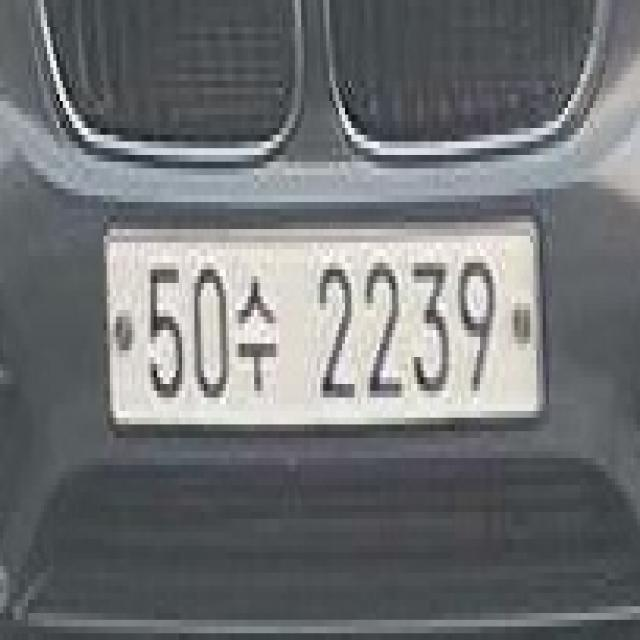0: (190, 252, 232, 402)
2: (313, 256, 361, 408), (364, 255, 404, 410)
3: (410, 258, 452, 400)
5: (145, 252, 186, 410)
9: (456, 256, 498, 401)
license_plate: (94, 189, 560, 454)
su: (235, 259, 278, 412)
